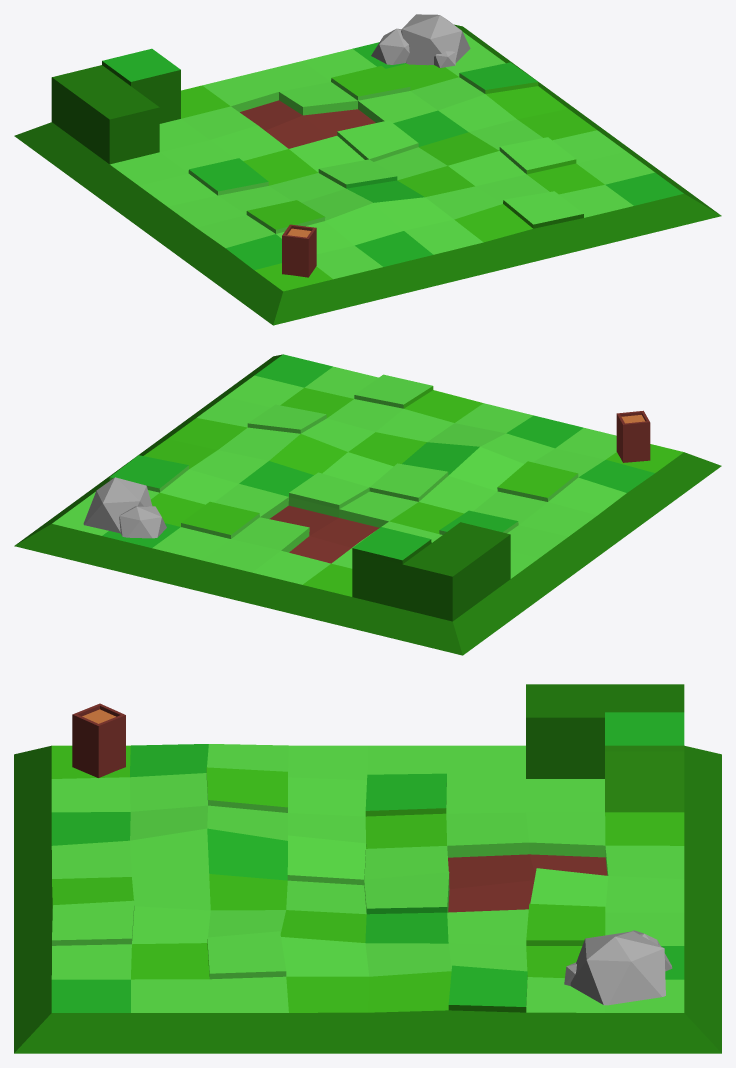
The model's file is des2.fbx.
3 renders of one model, top to bottom at view 1: azimuth 30°, elevation 25°; view 2: azimuth 150°, elevation 25°; view 3: azimuth 270°, elevation 25°, orthographic. The views are drawn at different scales.
Parts seen in each view (by area): view 1: land3; view 2: land3; view 3: land3.
Part boxes in pixels (box(x1,y1,x2,y2)): land3: box(14, 14, 721, 325); land3: box(14, 354, 721, 655); land3: box(14, 684, 721, 1053).
Bounding box in the file's own units: 101 × 14.36 × 101.
